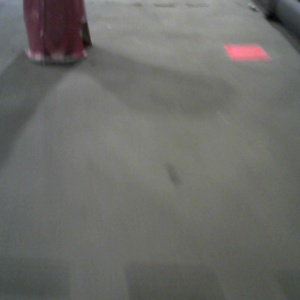Middle: (23, 1, 94, 63)
